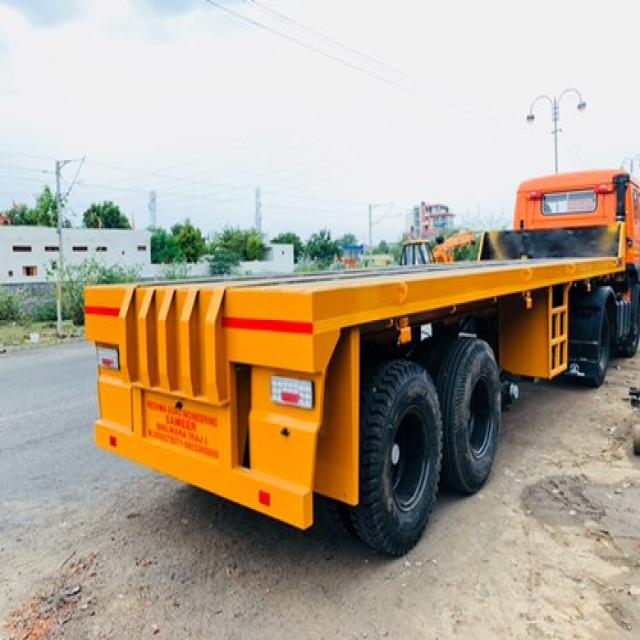truck: (85, 170, 640, 555)
